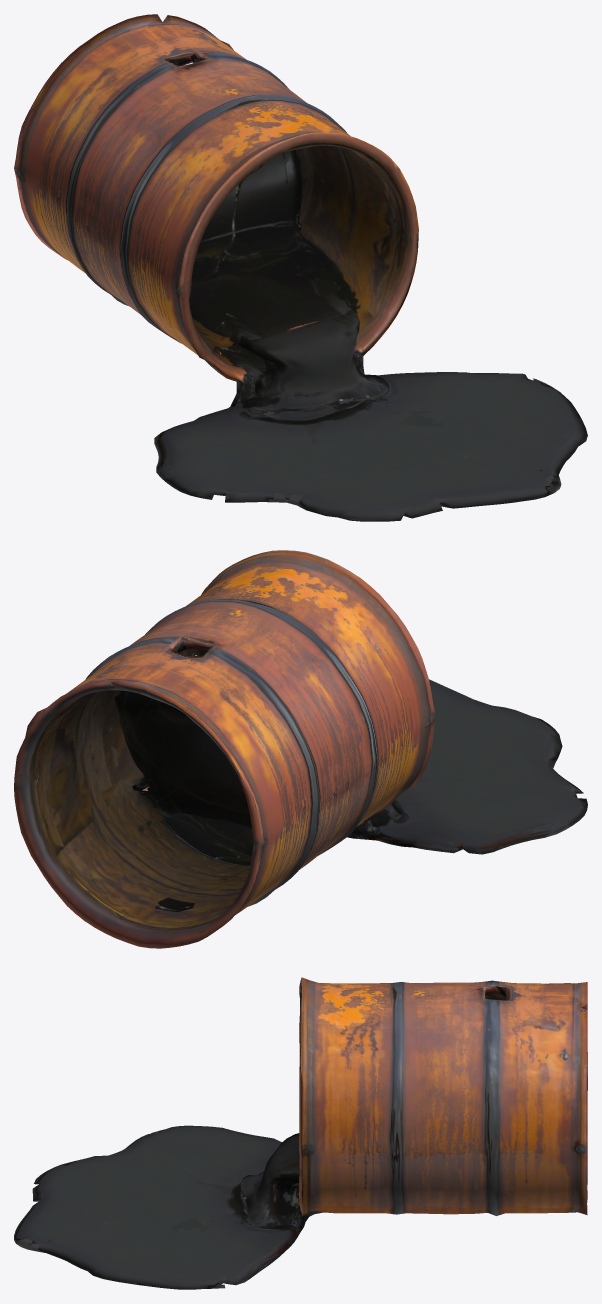
File: 70fecda8-c514-4da5-865f-a144ced3af15.glb
3 views of the same model, one above another, from view 1: azimuth 30°, elevation 25°; view 2: azimuth 150°, elevation 25°; view 3: azimuth 270°, elevation 25° (orthographic). The views are drawn at different scales.
Bounding box in the file's own units: 1.34 × 0.8532 × 2.
1 material, 1 textured.
